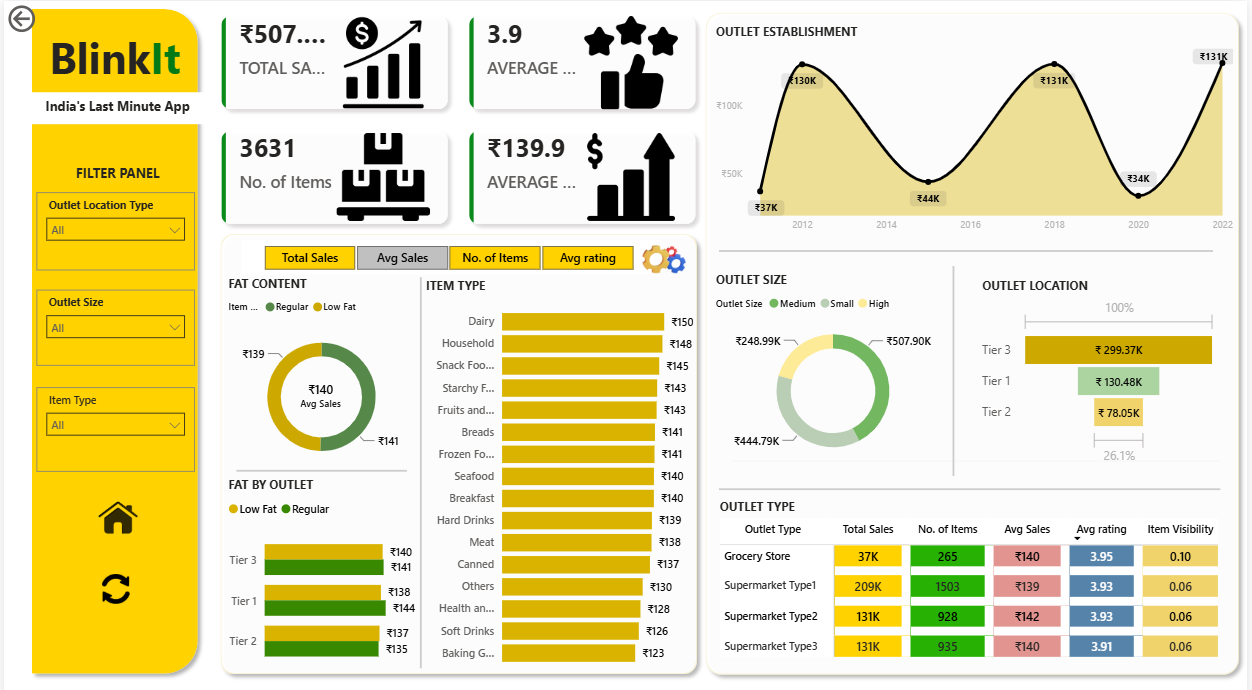

What the dashboard file says about the page in this screenshot:
{"tool":"powerbi","page":{"name":"Page 1","canvas":[1400,800],"ordinal":0},"visuals":[{"type":"shape","box":[820.2,383.1,550.7,270.7],"z":0},{"type":"shape","box":[22.9,0,204.8,766.9],"z":1000},{"type":"textbox","box":[7,25.8,235.5,96.1],"z":2000},{"type":"textbox","box":[12.9,103.1,230.8,36.3],"z":3000},{"type":"cardVisual","fields":{"Data":["Blinkit Grocery Data.Total Sales","Blinkit Grocery Data.Avg rating","Blinkit Grocery Data.No. of Items","Blinkit Grocery Data.Avg Sales"]},"box":[227.7,0,569.8,269.6],"z":4000},{"type":"shape","box":[235.3,253.1,554.5,513.8],"z":5000},{"type":"slicer","fields":{"Values":["Metrics.Metrics"]},"box":[267.1,269.6,465.5,39.4],"z":6000},{"type":"donutChart","title":"FAT CONTENT","fields":{"Y":["Blinkit Grocery Data.Avg Sales"],"Category":["Blinkit Grocery Data.Item Fat Content"]},"box":[248,307.8,220,230.2],"z":7000},{"type":"cardVisual","fields":{"Data":["Blinkit Grocery Data.Avg Sales"]},"box":[273.4,405.7,167.9,77.6],"z":8000},{"type":"shape","box":[262.4,514.4,192.2,30.5],"z":9000},{"type":"barChart","title":"ITEM TYPE","fields":{"Y":["Blinkit Grocery Data.Avg Sales"],"Category":["Blinkit Grocery Data.Item Type"]},"box":[469.8,311.7,311.7,448.7],"z":10000},{"type":"shape","box":[781.5,4.7,618.6,763.9],"z":11000},{"type":"lineChart","title":"OUTLET ESTABLISHMENT","fields":{"Y":["Blinkit Grocery Data.Total Sales"],"Category":["Blinkit Grocery Data.Outlet Establishment Year"]},"box":[796.7,25.8,592.9,243.7],"z":12000},{"type":"shape","box":[1063.9,298.8,12.9,236.7],"z":13000},{"type":"donutChart","title":"OUTLET SIZE","fields":{"Y":["Blinkit Grocery Data.Total Sales"],"Category":["Blinkit Grocery Data.Outlet Size"]},"box":[796.7,304.6,274.2,225],"z":14000},{"type":"funnel","title":"OUTLET LOCATION","fields":{"Category":["Blinkit Grocery Data.Outlet Location Type"],"Y":["Sum(Blinkit Grocery Data.Sales)"]},"box":[1096.7,311.7,274.2,216.8],"z":15000},{"type":"shape","box":[806.1,275.3,556.5,14.1],"z":16000},{"type":"pivotTable","title":"OUTLET TYPE","fields":{"Rows":["Blinkit Grocery Data.Outlet Type"],"Values":["Blinkit Grocery Data.Total Sales","Blinkit Grocery Data.No. of Items","Blinkit Grocery Data.Avg Sales","Blinkit Grocery Data.Avg rating","Avg(Blinkit Grocery Data.Item Visibility)"]},"box":[801.2,560.9,579.9,203.5],"z":17000},{"type":"actionButton","box":[0,0,100,40],"z":18000},{"type":"slicer","fields":{"Values":["Blinkit Grocery Data.Outlet Location Type"]},"box":[36.9,215.7,178.1,87.8],"z":19000},{"type":"shape","box":[445.2,311.7,49.2,440.5],"z":20000},{"type":"slicer","fields":{"Values":["Blinkit Grocery Data.Outlet Size"]},"box":[36.9,325.1,178.1,85.2],"z":21000},{"type":"shape","box":[806.1,529.6,564.7,41],"z":22000},{"type":"slicer","fields":{"Values":["Blinkit Grocery Data.Item Type"]},"box":[36.9,435.7,178.1,95.4],"z":23000},{"type":"clusteredBarChart","title":"FAT BY OUTLET","fields":{"Y":["Blinkit Grocery Data.Avg Sales"],"Series":["Blinkit Grocery Data.Item Fat Content"],"Category":["Blinkit Grocery Data.Outlet Location Type"]},"box":[248,535.4,221.3,228.9],"z":24000},{"type":"textbox","box":[50.9,178.8,155.2,39.4],"z":25000},{"type":"image","box":[105.6,641,40.7,43.2],"z":26000},{"type":"image","box":[97.9,550.7,59.8,58.5],"z":27000},{"type":"image","box":[707.7,253.1,73.8,75],"z":28000}]}

Visuals, with their boxes on the page's 1400x800 design canvas (x1, y1, x2, y2). These are canvas units, not pixel positions in the 1252x690 screenshot, which may show the page scaled, cropped or inside an application window:
shape: 820, 383, 1371, 654
shape: 23, 0, 228, 767
textbox: 7, 26, 242, 122
textbox: 13, 103, 244, 139
cardVisual - Blinkit Grocery Data.Total Sales x Blinkit Grocery Data.Avg rating: 228, 0, 798, 270
shape: 235, 253, 790, 767
slicer - Metrics.Metrics: 267, 270, 733, 309
"FAT CONTENT" donutChart: 248, 308, 468, 538
cardVisual - Blinkit Grocery Data.Avg Sales: 273, 406, 441, 483
shape: 262, 514, 455, 545
"ITEM TYPE" barChart: 470, 312, 782, 760
shape: 782, 5, 1400, 769
"OUTLET ESTABLISHMENT" lineChart: 797, 26, 1390, 270
shape: 1064, 299, 1077, 536
"OUTLET SIZE" donutChart: 797, 305, 1071, 530
"OUTLET LOCATION" funnel: 1097, 312, 1371, 528
shape: 806, 275, 1363, 289
"OUTLET TYPE" pivotTable: 801, 561, 1381, 764
actionButton: 0, 0, 100, 40
slicer - Blinkit Grocery Data.Outlet Location Type: 37, 216, 215, 304
shape: 445, 312, 494, 752
slicer - Blinkit Grocery Data.Outlet Size: 37, 325, 215, 410
shape: 806, 530, 1371, 571
slicer - Blinkit Grocery Data.Item Type: 37, 436, 215, 531
"FAT BY OUTLET" clusteredBarChart: 248, 535, 469, 764
textbox: 51, 179, 206, 218
image: 106, 641, 146, 684
image: 98, 551, 158, 609
image: 708, 253, 782, 328
